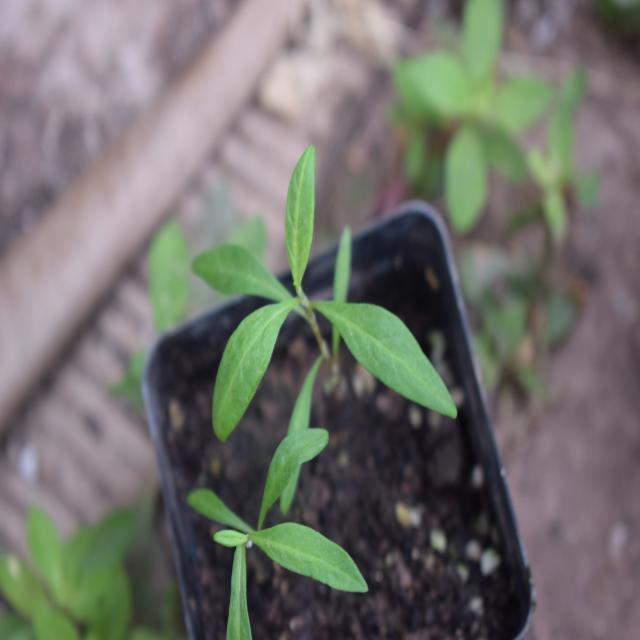white_smart_weed: (182, 134, 458, 476), (175, 412, 367, 640)
